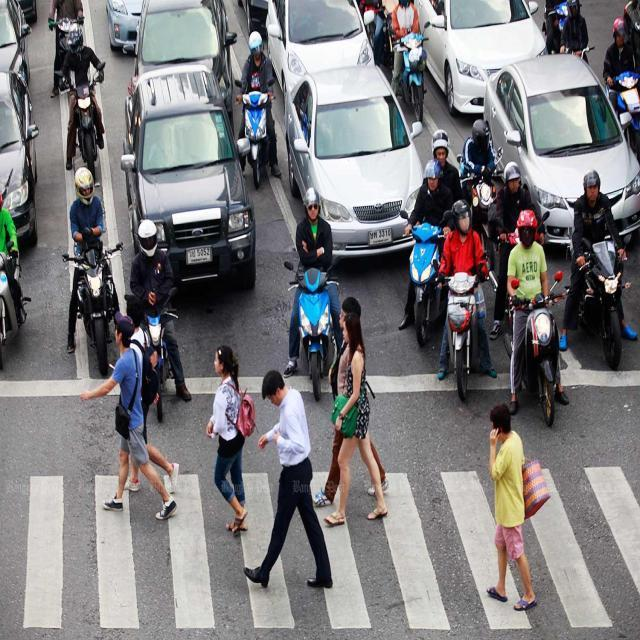without scooter: (249, 369, 332, 589), (101, 313, 179, 530), (484, 401, 542, 615), (336, 292, 388, 526), (127, 300, 180, 493), (206, 343, 251, 532)
